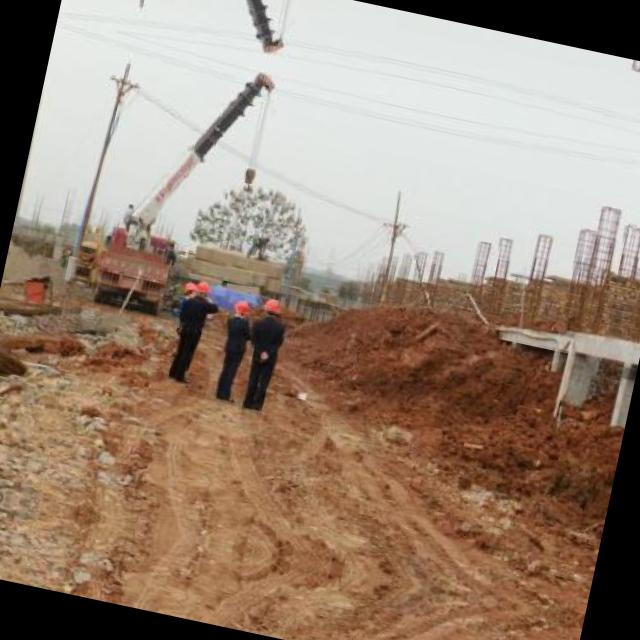helmet: (256, 293, 282, 319), (231, 294, 251, 318), (178, 280, 196, 304), (194, 277, 212, 301)
